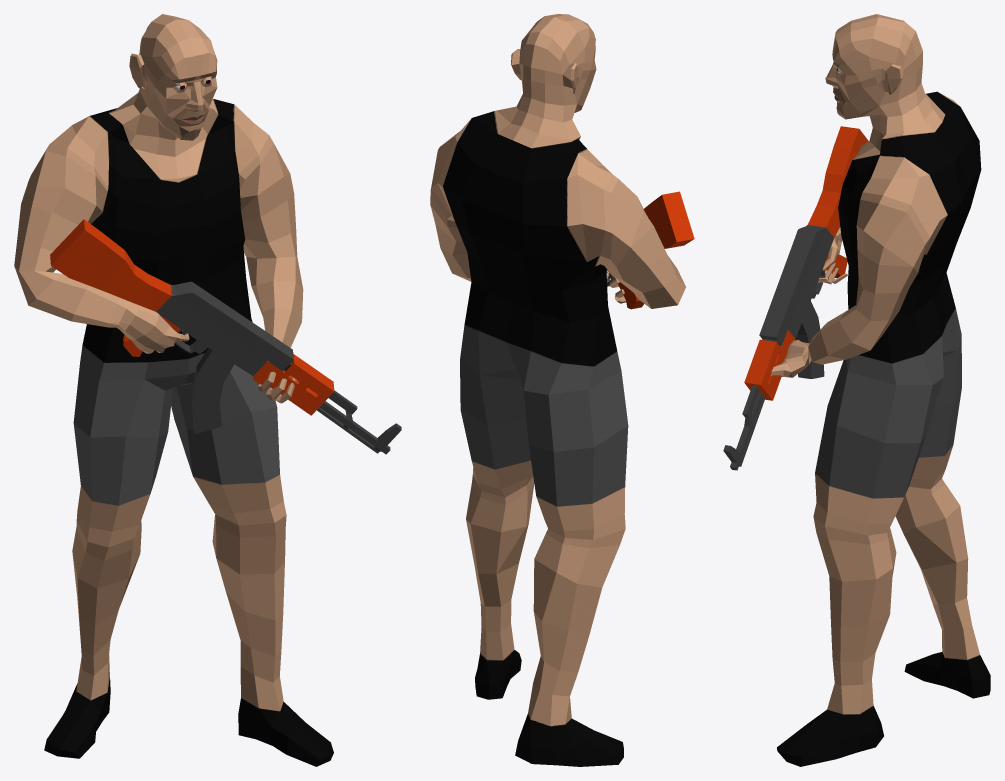
File: PlayerIdle(31).obj
The picture shows the model from 3 angles, left to right: view 1: azimuth 30°, elevation 25°; view 2: azimuth 150°, elevation 25°; view 3: azimuth 270°, elevation 25°; orthographic projection. The views are drawn at different scales.
Parts seen in each view (by area): view 1: Plane002, Object001; view 2: Plane002, Object001; view 3: Plane002, Object001.
Boxes of the visible parts, <box> form: Plane002: <box>14,14,333,766</box>; Object001: <box>50,219,401,454</box>; Plane002: <box>430,14,685,766</box>; Object001: <box>606,191,694,309</box>; Plane002: <box>770,14,990,766</box>; Object001: <box>723,126,868,470</box>.
Size of the model in its own units: 749 by 1808 by 630.
